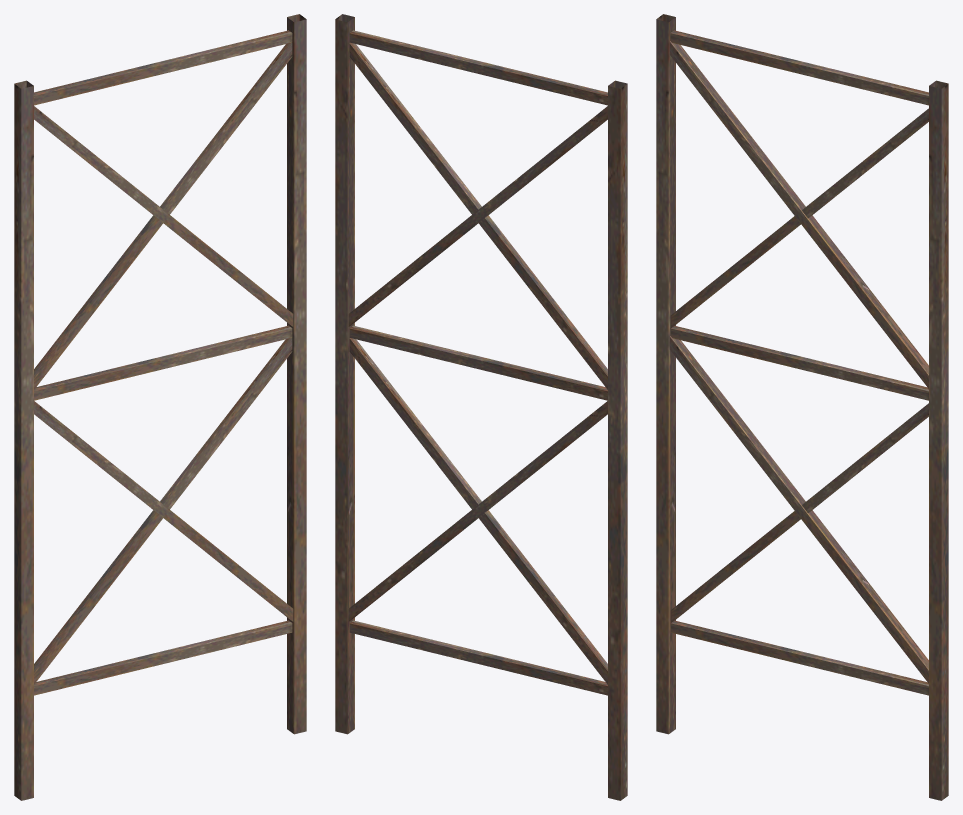
Rendered from industrialSupport.fbx.
3 views of the same model, side by side, from view 1: azimuth 30°, elevation 25°; view 2: azimuth 150°, elevation 25°; view 3: azimuth 330°, elevation 25° (orthographic).
Visible parts, largest first — view 1: Bridges_3.001; view 2: Bridges_3.001; view 3: Bridges_3.001.
Boxes of the visible parts, x1,y1,x2,y2 form: Bridges_3.001: (14,14,306,800); Bridges_3.001: (335,14,627,800); Bridges_3.001: (656,14,948,800).
Bounding box in the file's own units: 207 × 494 × 9.16.
